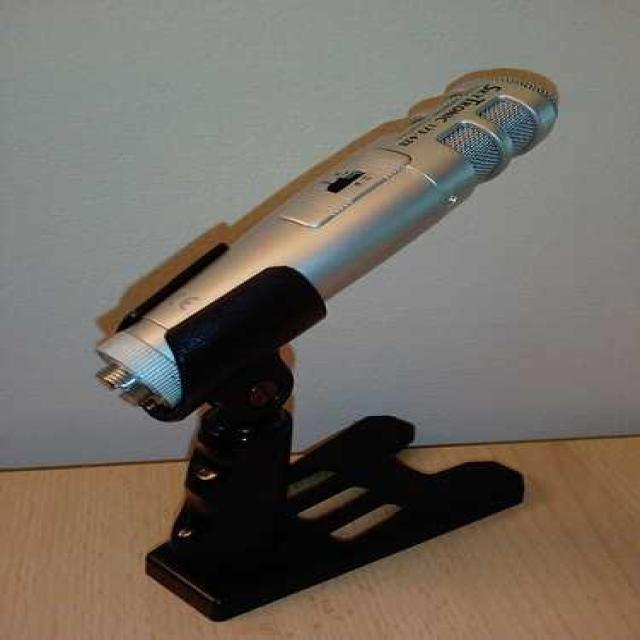microphone: (105, 75, 543, 404)
